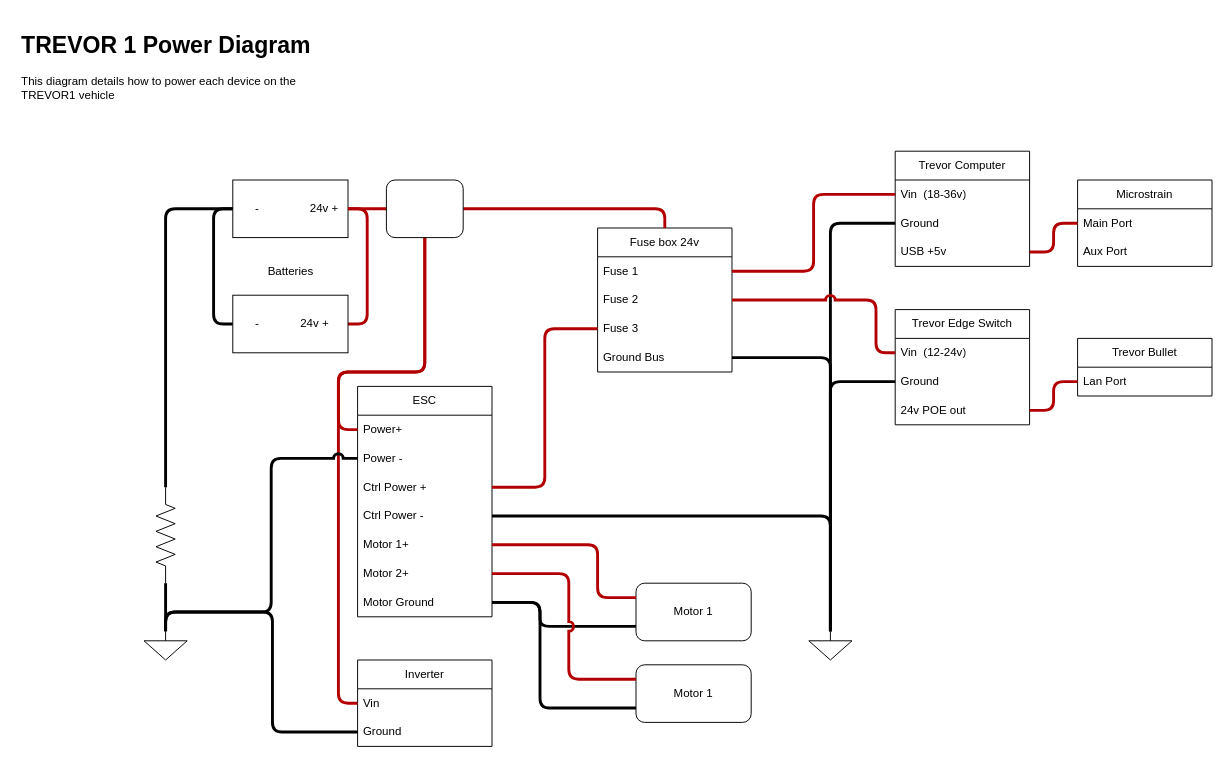
Image size: 1229x763. Some labels were removed from this diagram. Each missing label, with the centre of its shape:
"Main Switch" goes at [424,208].
"Shunt" goes at [165,534].
